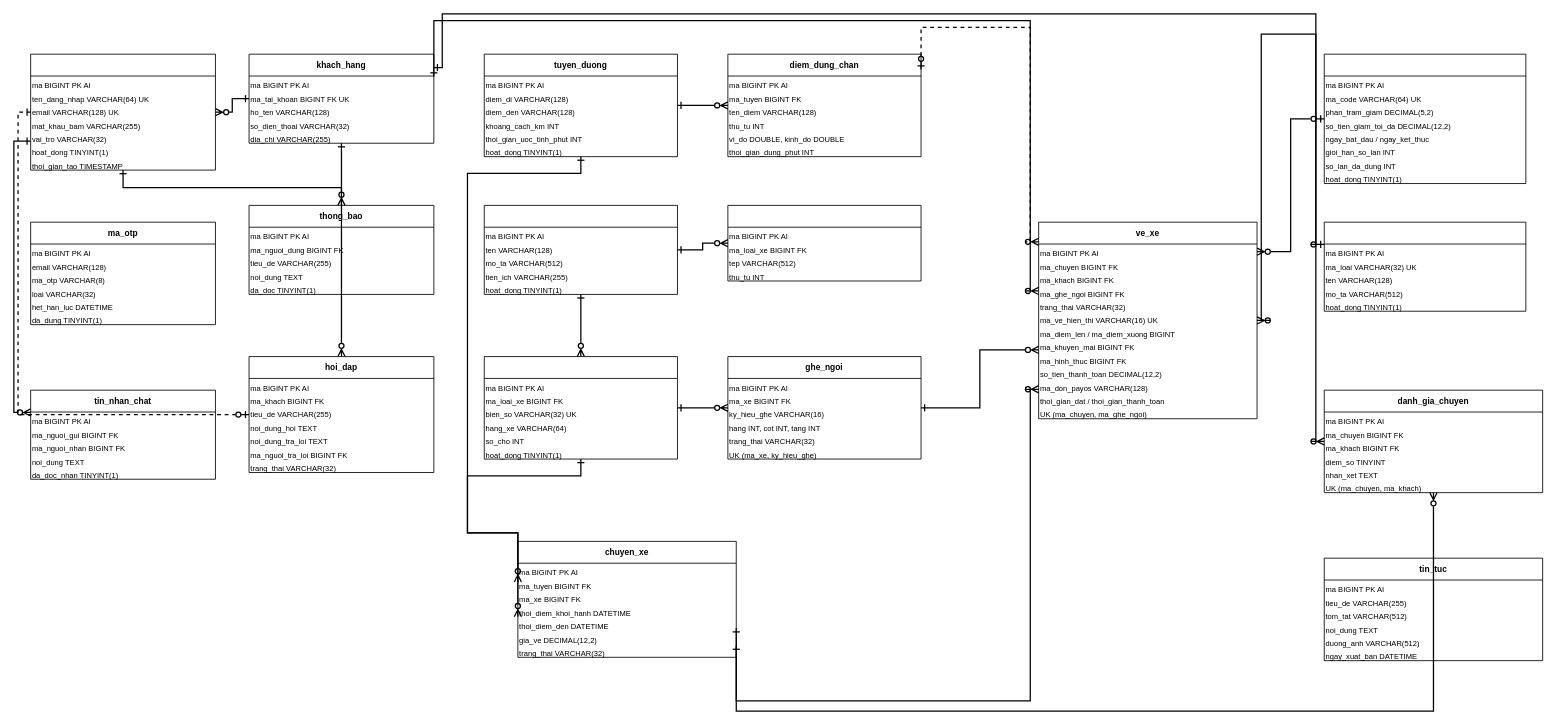
Some shapes in this 1557 by 725 pixel diagram are drawn without their labels. Here are the shapes that lost their labels. From the top down, the box of each, then its label:
(30, 53, 215, 170): tai_khoan
(1323, 53, 1526, 184): khuyen_mai
(483, 205, 677, 294): loai_xe
(727, 205, 921, 281): loai_xe_anh
(1323, 221, 1526, 311): hinh_thuc_thanh_toan
(483, 356, 677, 459): xe_khach
